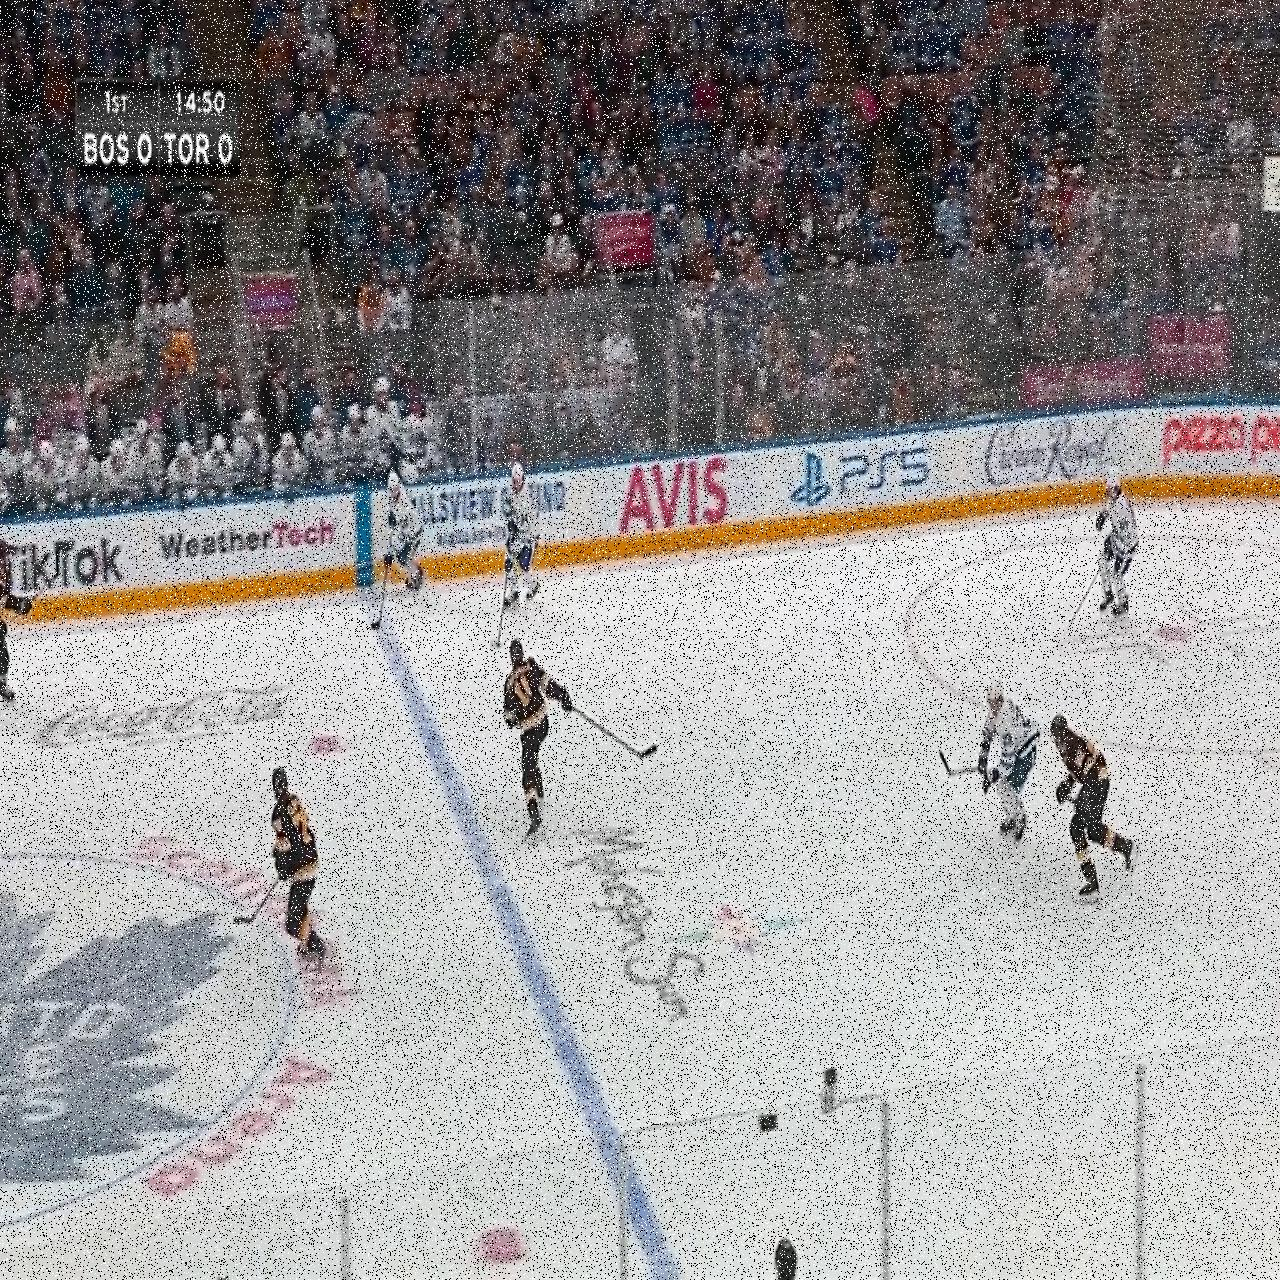Ad: (544, 810, 810, 1031), (392, 472, 578, 571), (31, 685, 290, 756), (155, 499, 342, 583), (0, 511, 136, 622), (974, 416, 1122, 505), (615, 446, 734, 542), (1158, 404, 1280, 497), (791, 436, 931, 514)
